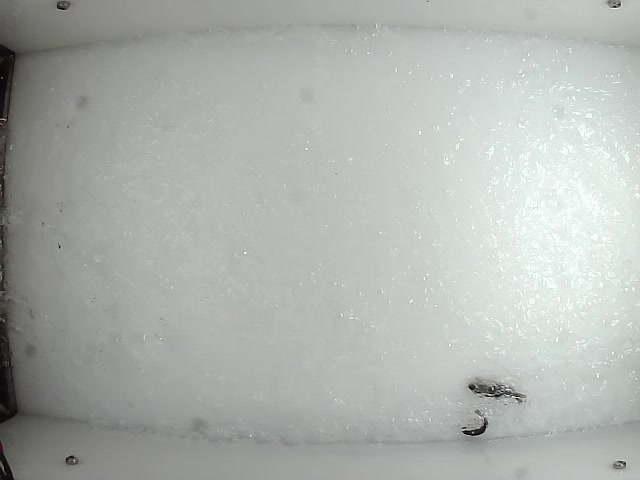fish: (466, 381, 528, 405), (459, 406, 489, 437)
